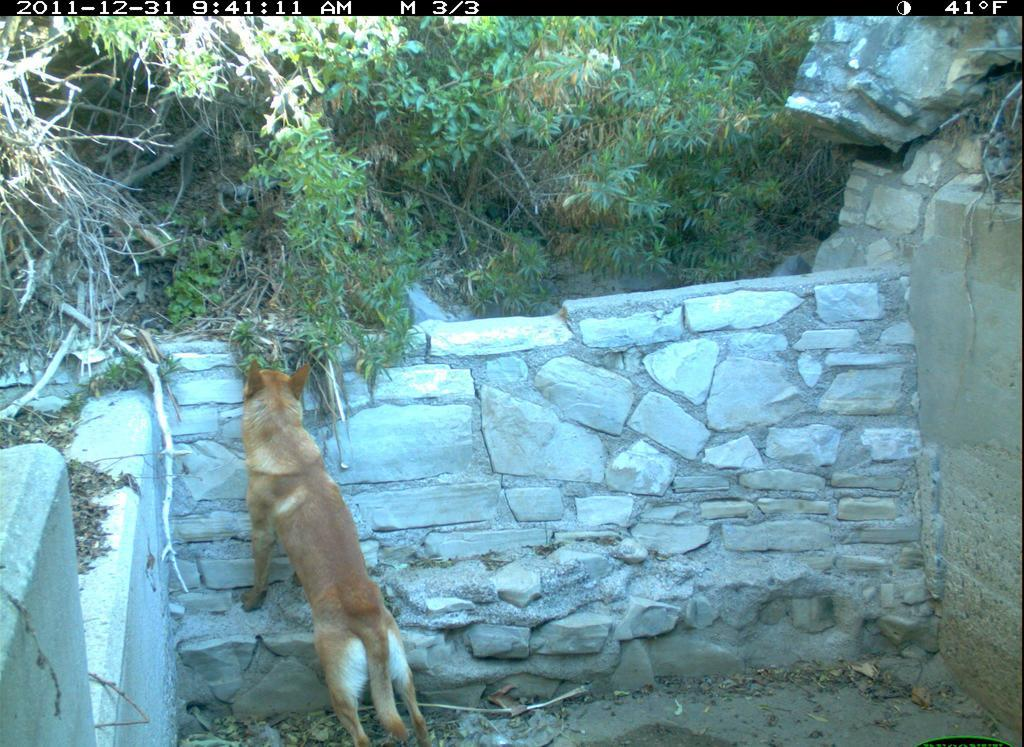dog: (223, 344, 456, 747)
